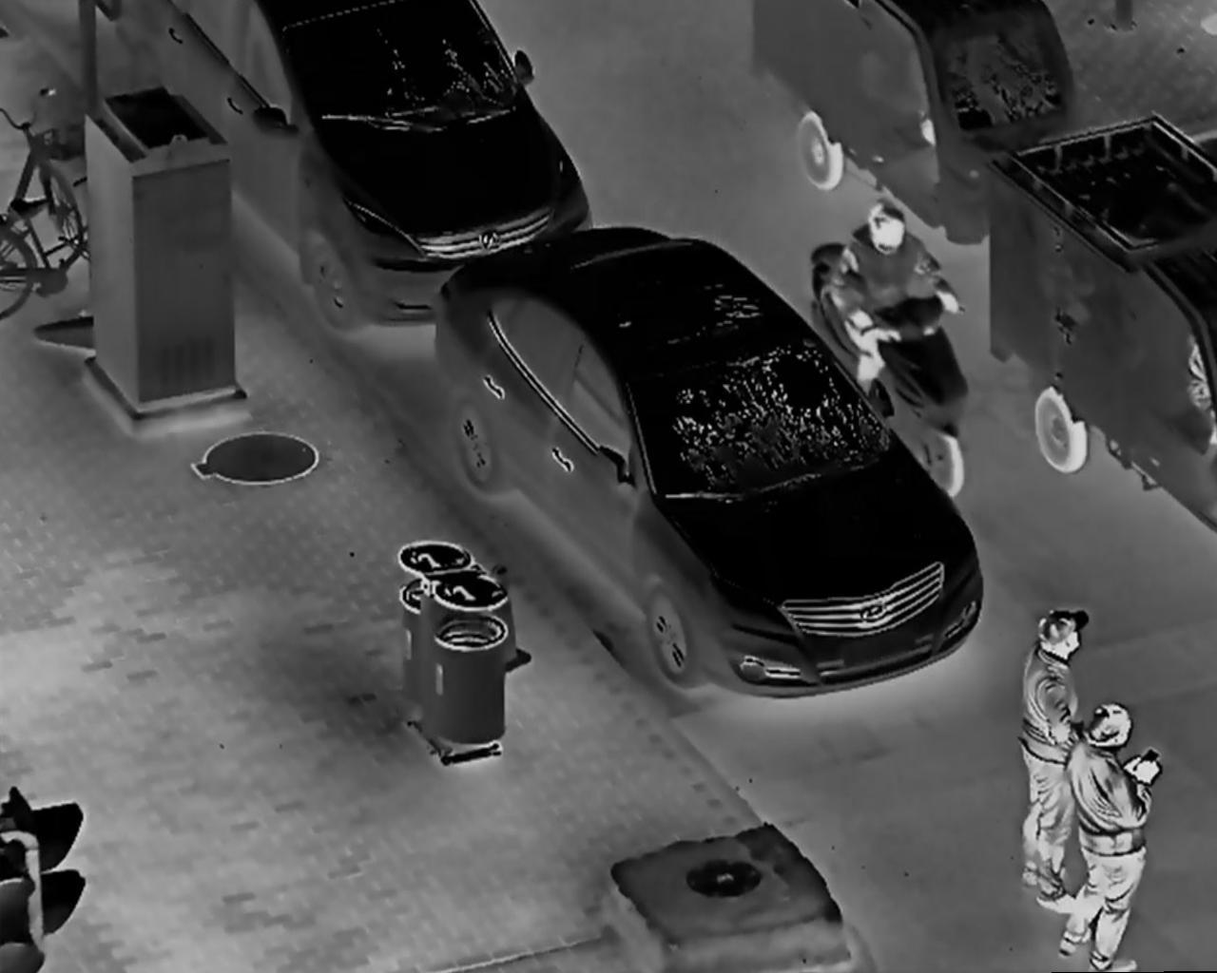person: (1057, 704, 1159, 973), (840, 200, 956, 435), (1014, 606, 1090, 911)
